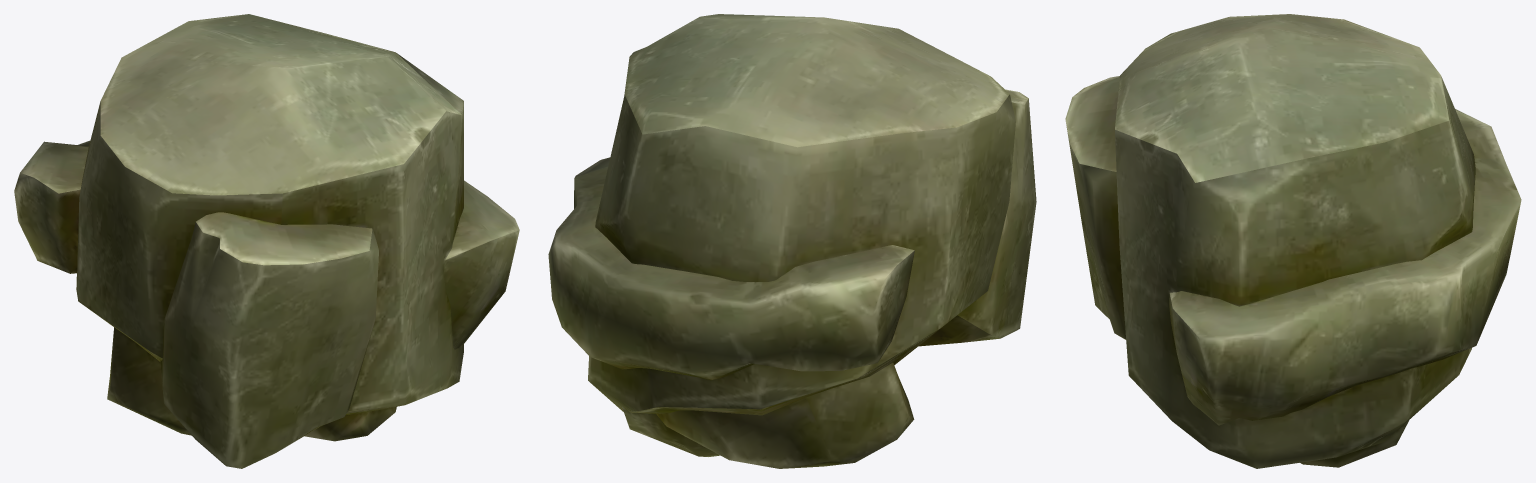
3 views of the same model, side by side, from view 1: azimuth 30°, elevation 25°; view 2: azimuth 150°, elevation 25°; view 3: azimuth 270°, elevation 25° (orthographic). The views are drawn at different scales.
Parts seen in each view (by area): view 1: SM_Tin_Ore_Small_01_LOD0; view 2: SM_Tin_Ore_Small_01_LOD0; view 3: SM_Tin_Ore_Small_01_LOD0.
Boxes of the visible parts, <box> form: SM_Tin_Ore_Small_01_LOD0: <box>14,14,519,468</box>; SM_Tin_Ore_Small_01_LOD0: <box>548,14,1036,468</box>; SM_Tin_Ore_Small_01_LOD0: <box>1065,14,1521,468</box>.
Size of the model in its own units: 0.2491 by 0.2454 by 0.261.
Materials: 1 (1 with a texture image).
